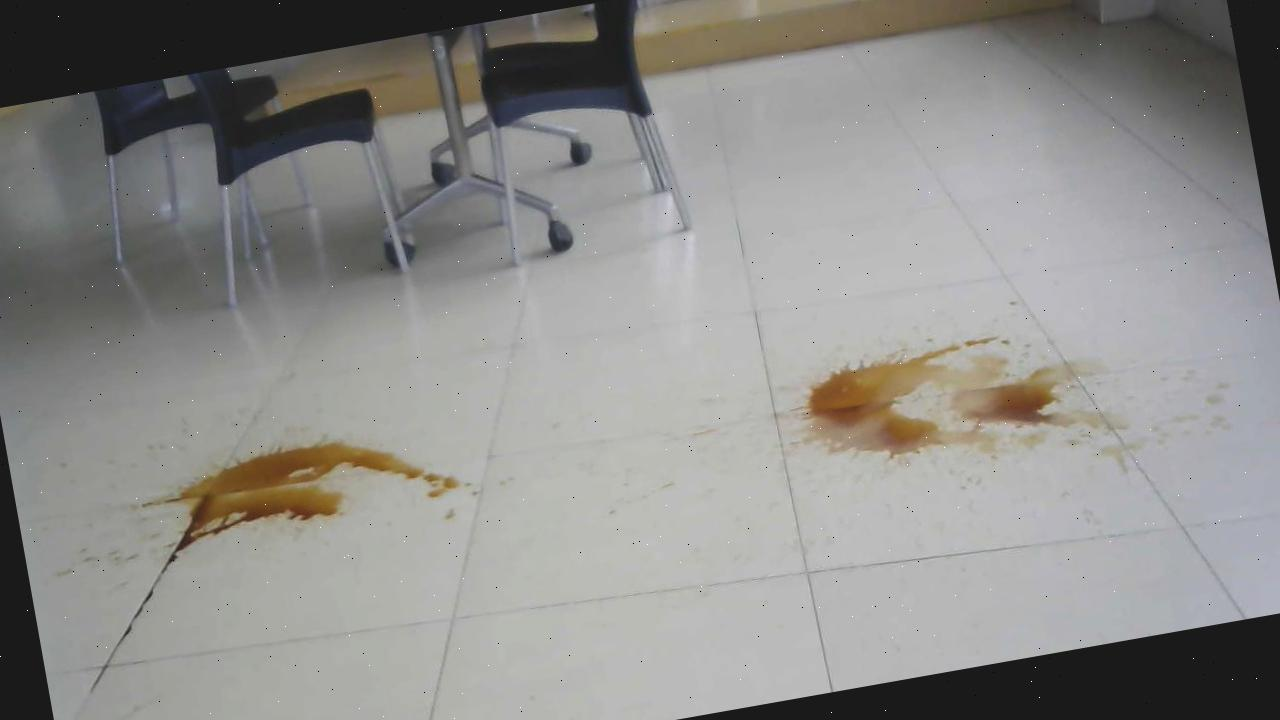dirty_floor: (773, 300, 1110, 512), (132, 411, 474, 585)
